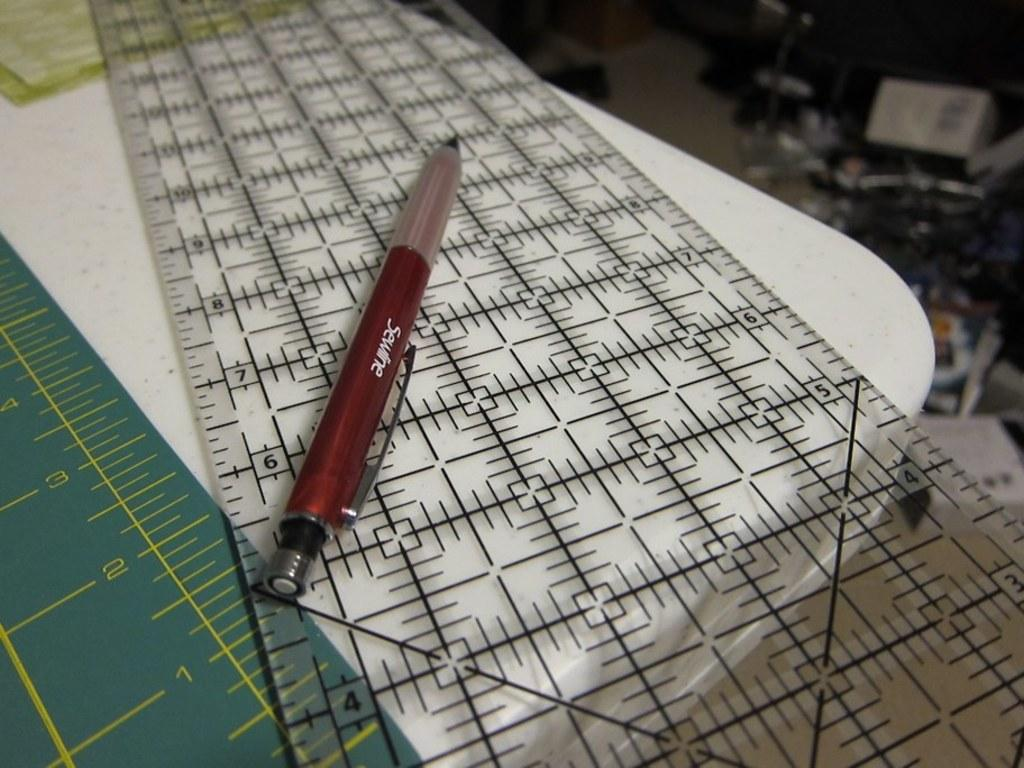pen: (254, 127, 460, 598)
